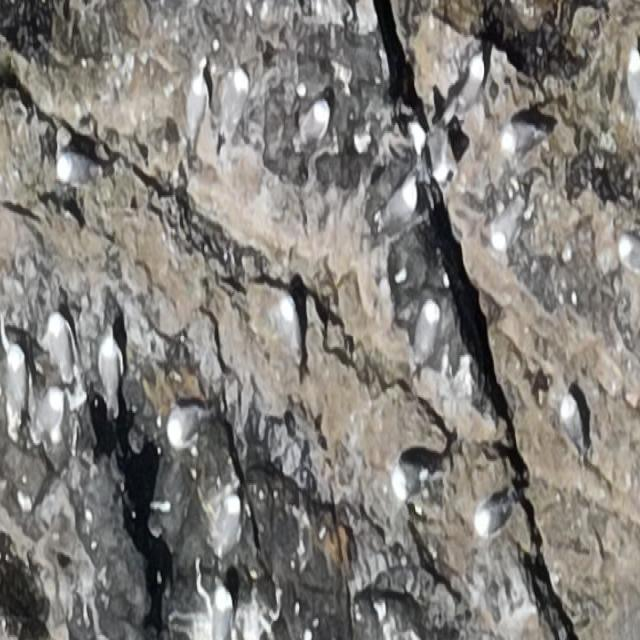umineko: (215, 66, 246, 153), (490, 184, 530, 250), (48, 315, 82, 389), (452, 51, 483, 124), (379, 175, 417, 234), (290, 100, 330, 156), (98, 333, 125, 411), (34, 387, 68, 448), (53, 151, 107, 187), (415, 297, 441, 371), (7, 342, 29, 426), (394, 456, 434, 502), (280, 294, 304, 370), (184, 72, 204, 155), (474, 497, 513, 536), (168, 403, 204, 444), (562, 392, 585, 454), (222, 490, 240, 559), (502, 123, 542, 153), (208, 588, 232, 637), (618, 236, 639, 271), (628, 46, 639, 109)
